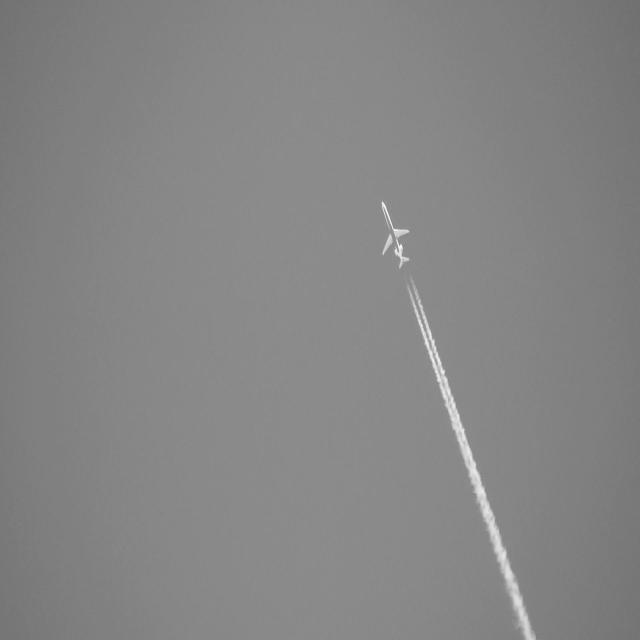aeroplane: (380, 192, 412, 272)
